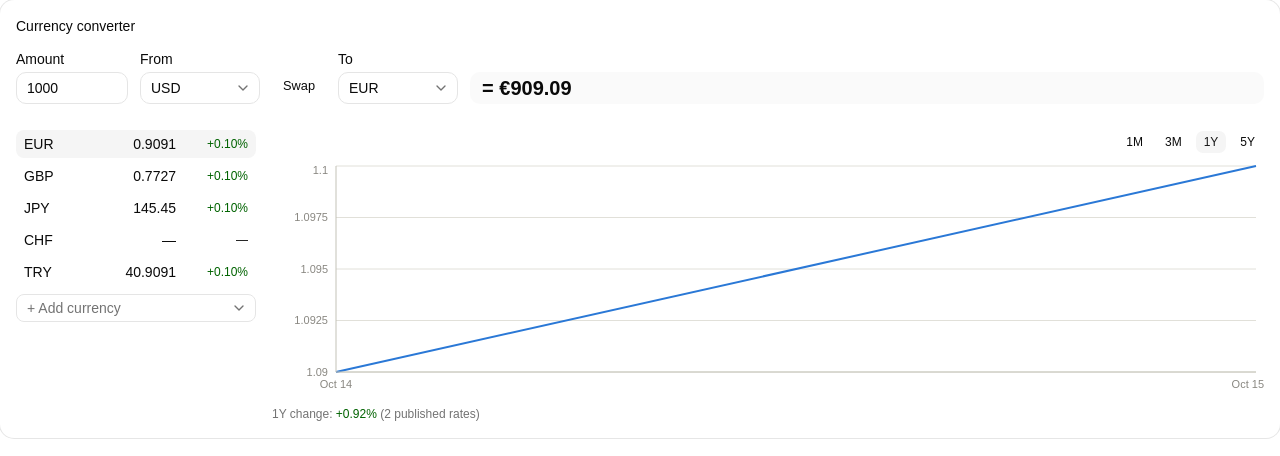
Test: CurrencyConverterCard › loads every currency in one board request; adding, removing and changing To need no further board request
Expected: the text named "Converted amount" shows "€909.09", [499,77,572,99]
Expected: the button "TRY 40.9091 +0.10%" is shown, [16,258,256,286]
Click the dropdown named "Add a currency to the rates".
click(136, 308)  # box [16,294,256,322]
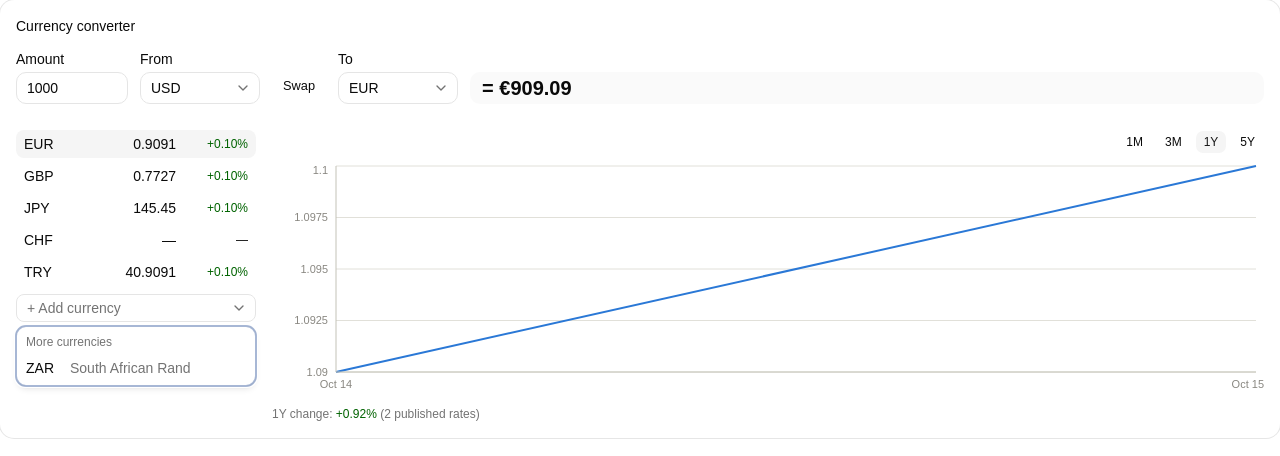
Click the option "ZAR South African Rand".
click(108, 368)  # box [26,360,191,376]
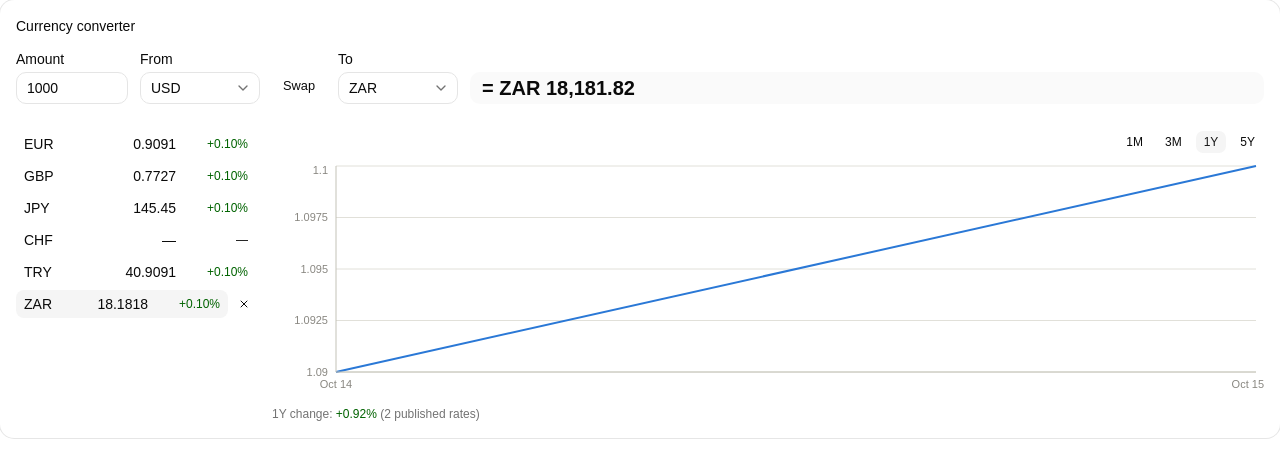
Now the button "ZAR 18.1818 +0.10%" is shown, box [16,290,228,318]
Click the button named "Remove ZAR".
click(244, 304)  # box [232,292,256,316]
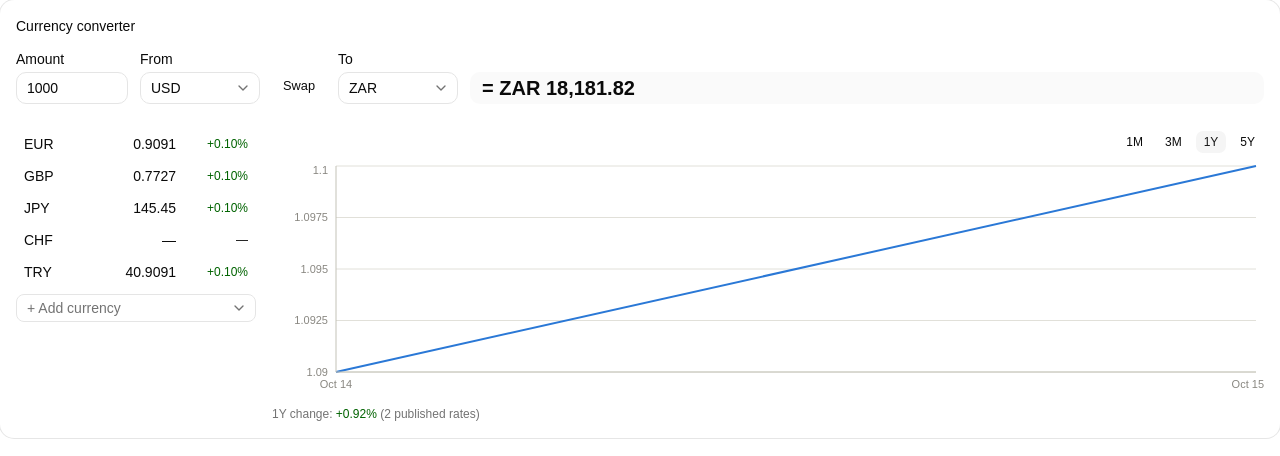
// Changing the To currency converts from the same board.
Click the dropdown named "Convert to".
click(398, 88)  # box [338,72,458,104]
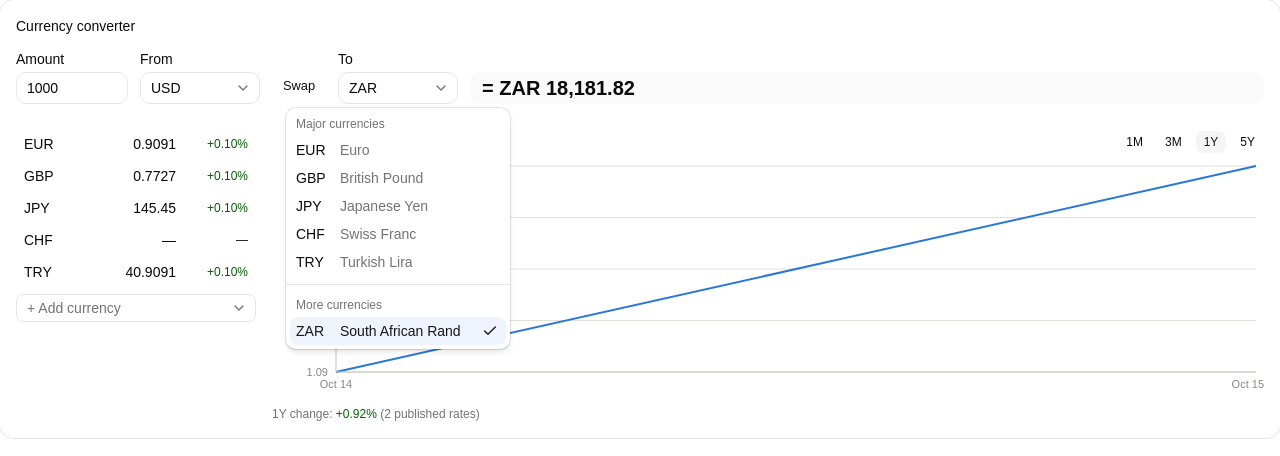
Now the option "TRY Turkish Lira" is shown
Click the option "TRY Turkish Lira".
click(354, 262)  # box [296,254,413,270]
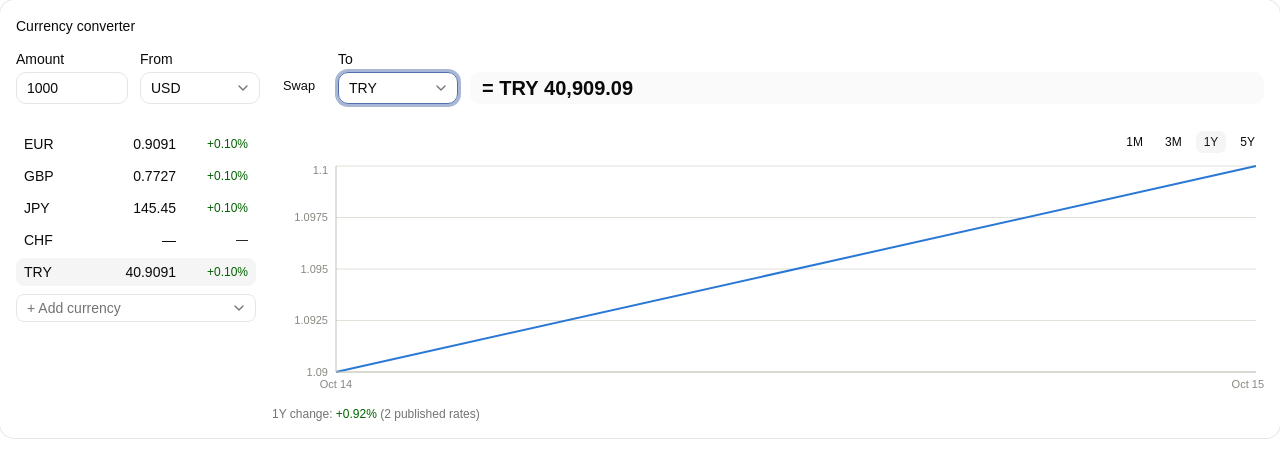
Now the text named "Converted amount" shows "40,909.09", box [499,77,633,99]
